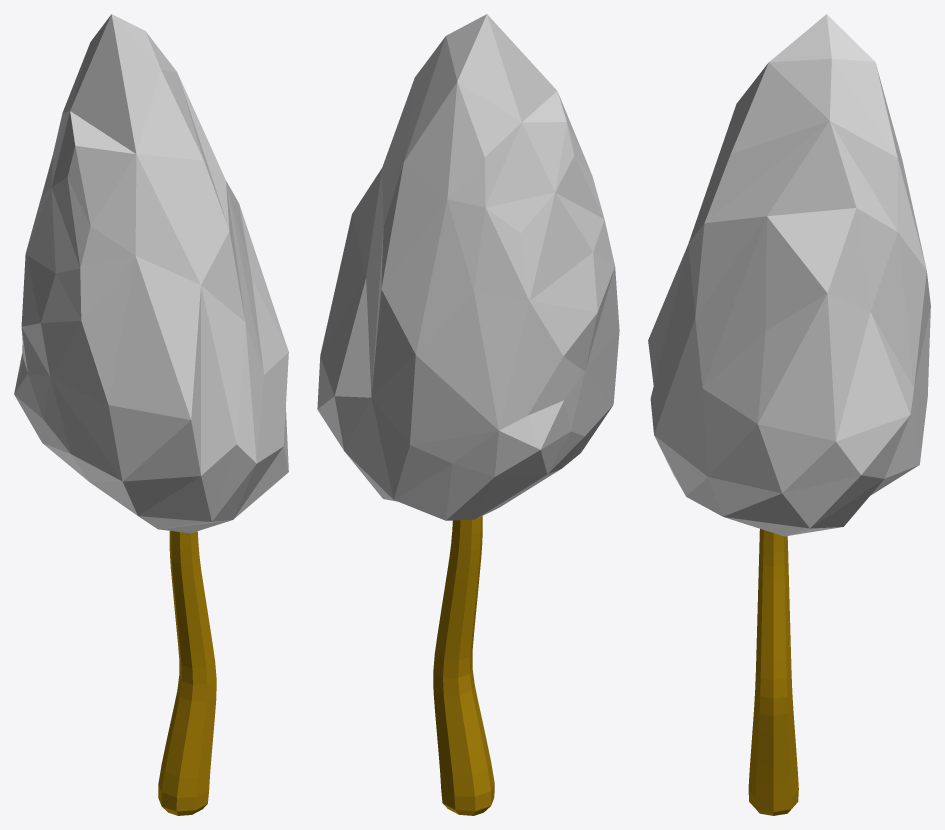
File: tree5.glb
The picture shows the model from 3 angles, left to right: view 1: azimuth 30°, elevation 25°; view 2: azimuth 150°, elevation 25°; view 3: azimuth 270°, elevation 25°; orthographic projection. The views are drawn at different scales.
Parts seen in each view (by area): view 1: leaf, trunk; view 2: leaf, trunk; view 3: leaf, trunk.
Boxes of the visible parts, box(x1,y1,x2,y2) form: leaf: box(14, 14, 288, 533); trunk: box(158, 531, 216, 815); leaf: box(317, 14, 619, 520); trunk: box(433, 516, 494, 815); leaf: box(648, 14, 930, 536); trunk: box(748, 529, 798, 815).
Bounding box in the file's own units: 1.25 × 3.88 × 1.28.
